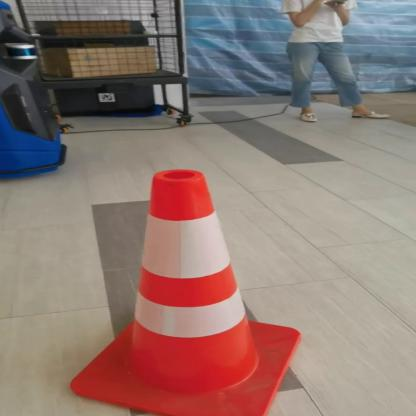cone: (75, 170, 313, 416)
